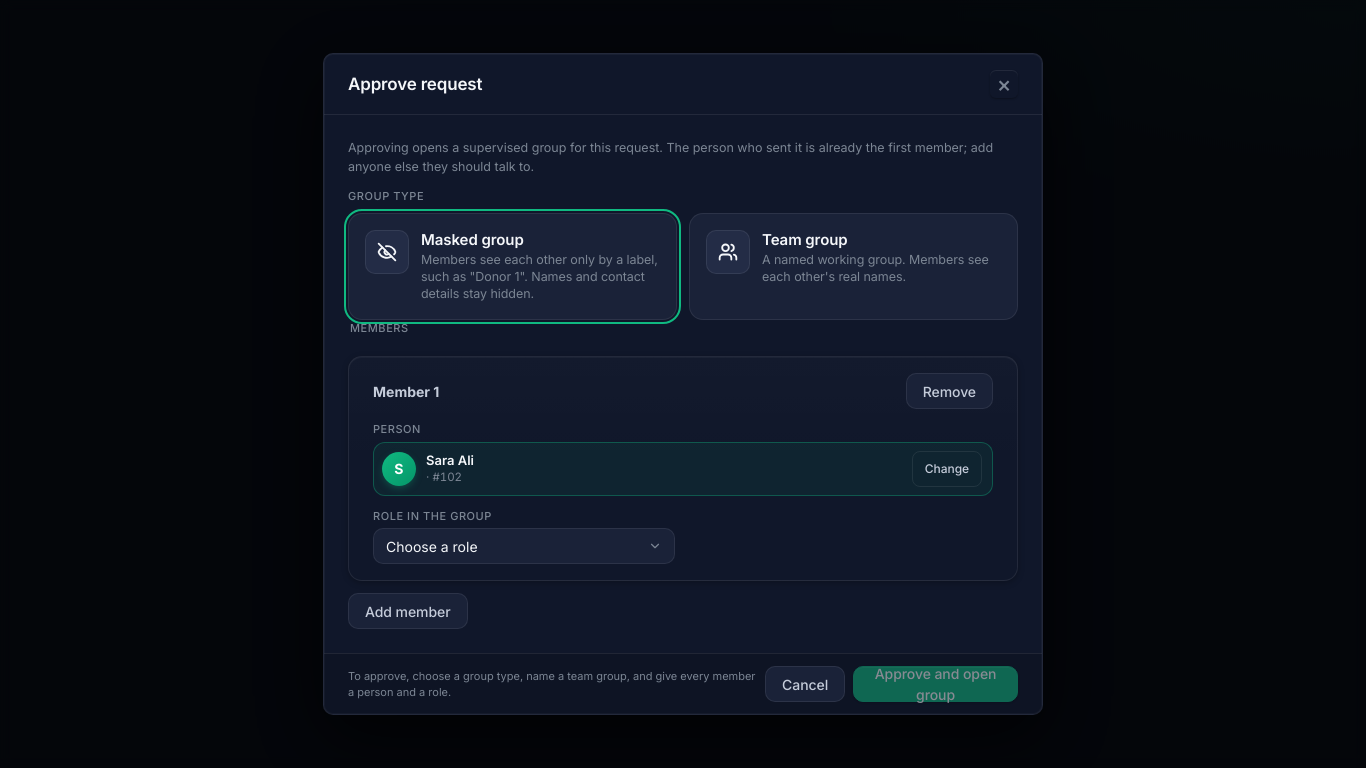
ApproveRequestDialog › refuses to send a group without the requester, and says why
What coordinates should you click on to do the following:
click the radio button labelled "Masked group"
I would click on:
 (512, 266)
Its box is [348,213,677,320].
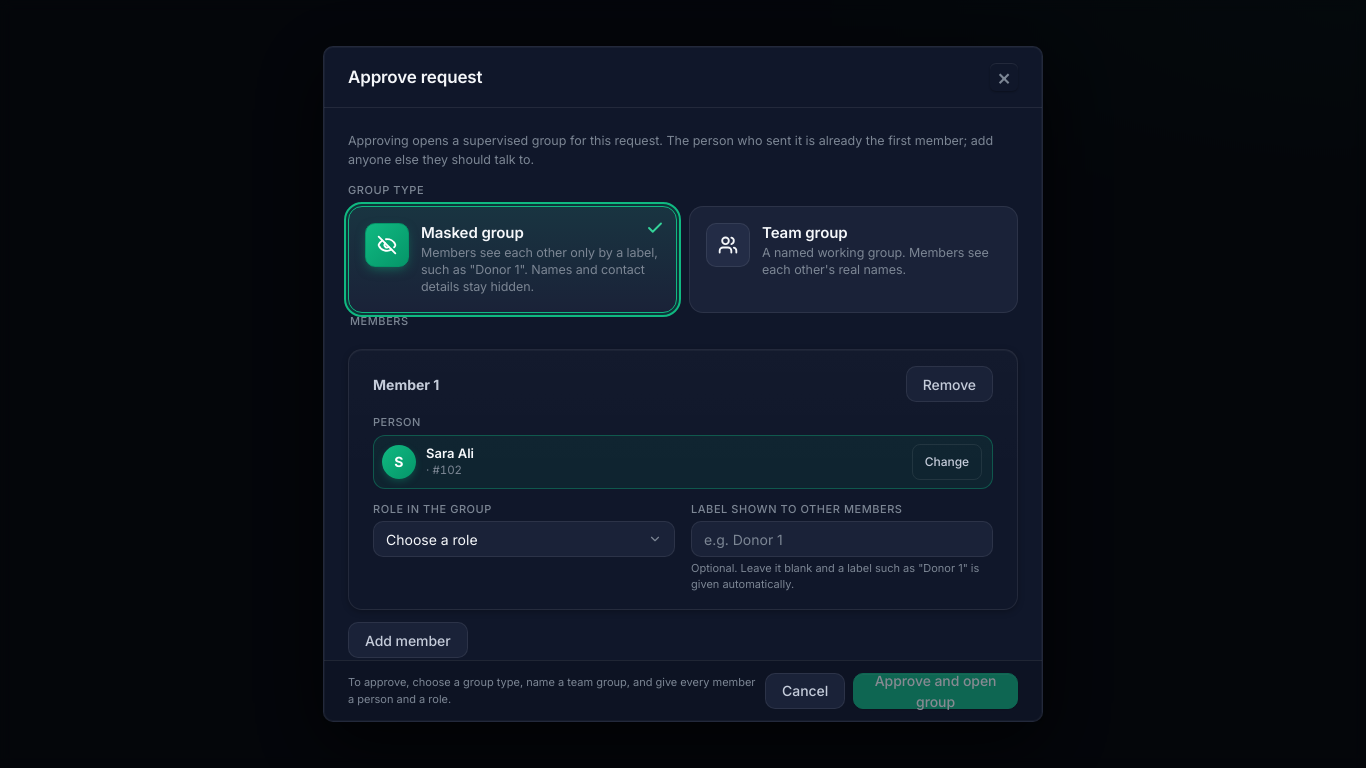
What coordinates should you click on to do the following:
click the button with aria-label "Remove member 1"
I would click on:
 (949, 384)
Its box is [906,366,993,402].
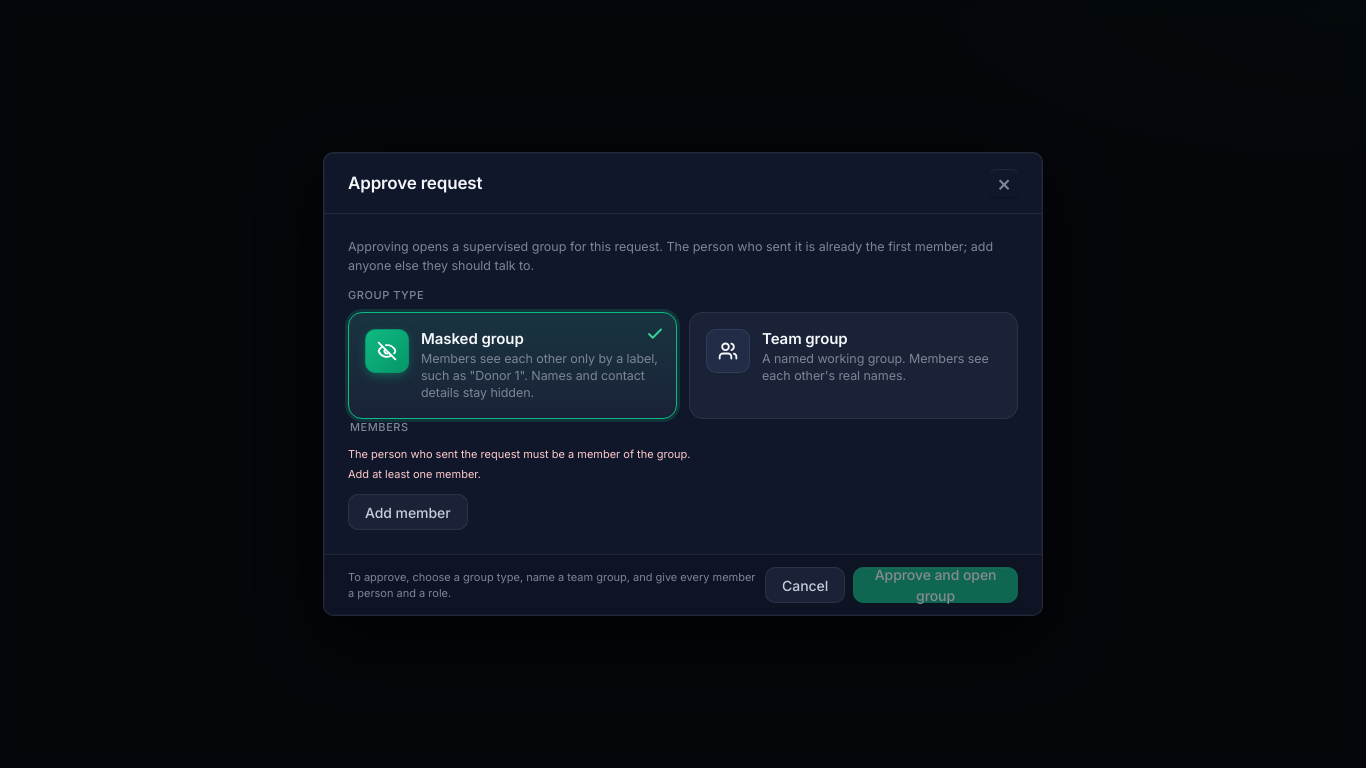
Expected: the button "Approve and open group" is disabled, [853,567,1018,603]
Result: the text "The person who sent the request must be a member of the group." is shown at [348,447,690,461]
